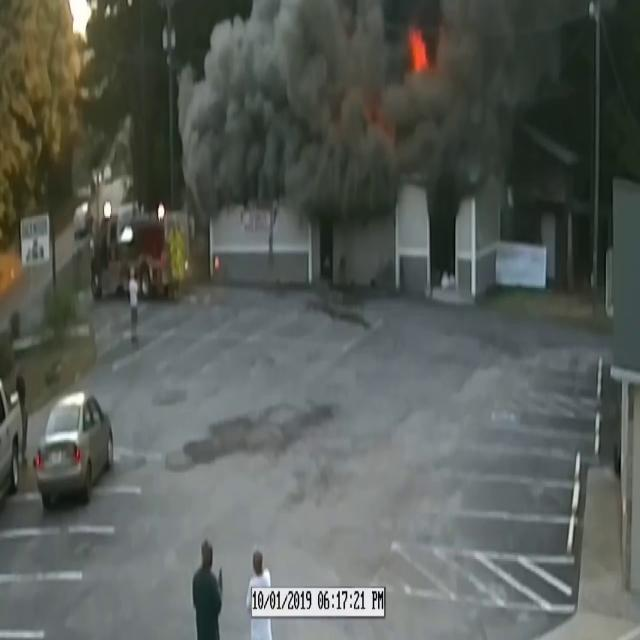Smoke: (182, 0, 572, 221)
